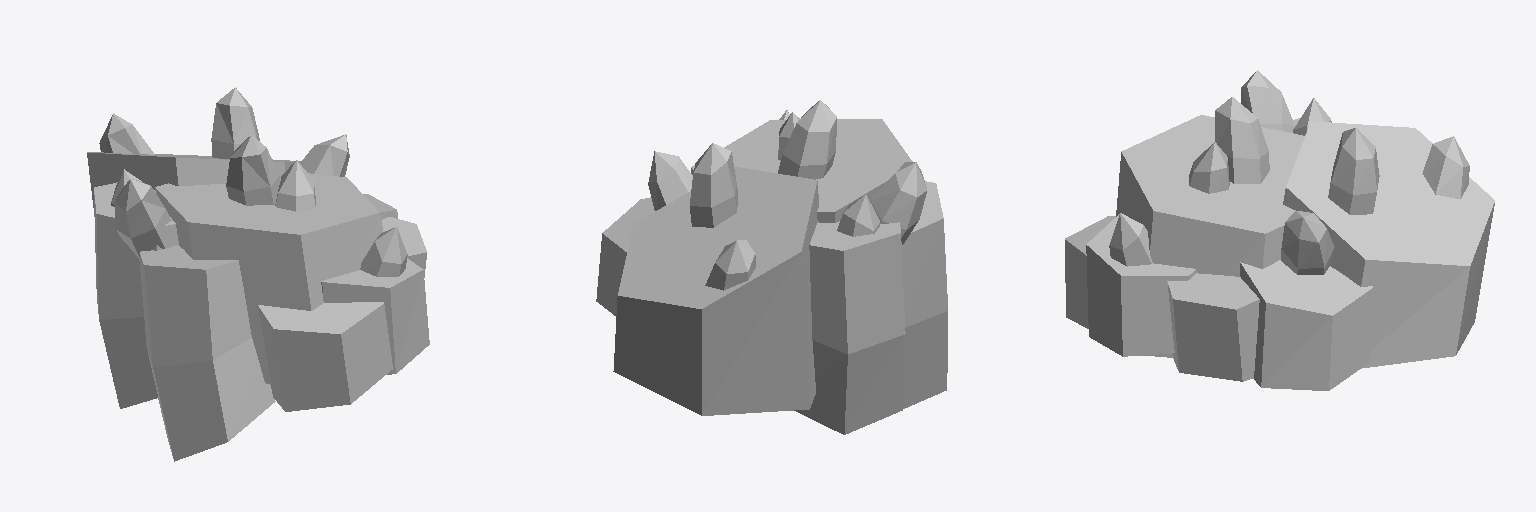
3 views of the same model, side by side, from view 1: azimuth 30°, elevation 25°; view 2: azimuth 150°, elevation 25°; view 3: azimuth 270°, elevation 25° (orthographic).
Parts seen in each view (by area): view 1: group[number redacted], group[number redacted], group[number redacted], group[number redacted], group[number redacted], group[number redacted], group[number redacted], group[number redacted], group[number redacted], group[number redacted], group[number redacted], group[number redacted] (+2 smaller); view 2: group[number redacted], group[number redacted], group[number redacted], group[number redacted], group[number redacted], group[number redacted], group[number redacted], group[number redacted], group[number redacted], group[number redacted], group[number redacted]; view 3: group[number redacted], group[number redacted], group[number redacted], group[number redacted], group[number redacted], group[number redacted], group[number redacted], group[number redacted], group[number redacted], group[number redacted], group[number redacted], group[number redacted] (+2 smaller).
Boxes of the visible parts, <box> form: group[number redacted]: <box>139,245,275,461</box>; group[number redacted]: <box>155,173,382,383</box>; group[number redacted]: <box>257,302,392,411</box>; group[number redacted]: <box>94,182,178,408</box>; group[number redacted]: <box>321,258,429,374</box>; group[number redacted]: <box>87,152,300,207</box>; group[number redacted]: <box>114,179,171,257</box>; group[number redacted]: <box>226,135,279,205</box>; group[number redacted]: <box>211,87,259,158</box>; group[number redacted]: <box>360,227,407,276</box>; group[number redacted]: <box>275,160,315,211</box>; group[number redacted]: <box>300,134,349,176</box>; group[number redacted]: <box>613,166,818,415</box>; group[number redacted]: <box>794,221,905,434</box>; group[number redacted]: <box>902,181,947,408</box>; group[number redacted]: <box>691,119,912,222</box>; group[number redacted]: <box>690,143,737,227</box>; group[number redacted]: <box>778,100,836,179</box>; group[number redacted]: <box>596,197,654,315</box>; group[number redacted]: <box>870,162,926,244</box>; group[number redacted]: <box>648,151,692,210</box>; group[number redacted]: <box>705,240,755,290</box>; group[number redacted]: <box>837,194,879,236</box>; group[number redacted]: <box>1283,121,1494,368</box>; group[number redacted]: <box>1116,115,1304,357</box>; group[number redacted]: <box>1240,260,1372,390</box>; group[number redacted]: <box>1086,214,1196,356</box>; group[number redacted]: <box>1167,273,1259,381</box>; group[number redacted]: <box>1215,97,1269,183</box>; group[number redacted]: <box>1328,128,1379,214</box>; group[number redacted]: <box>1281,210,1334,274</box>; group[number redacted]: <box>1065,216,1115,328</box>; group[number redacted]: <box>1422,136,1469,198</box>; group[number redacted]: <box>1241,70,1294,132</box>; group[number redacted]: <box>1109,213,1152,266</box>.
Bounding box in the file's own units: 0.2492 × 0.2356 × 0.3156.